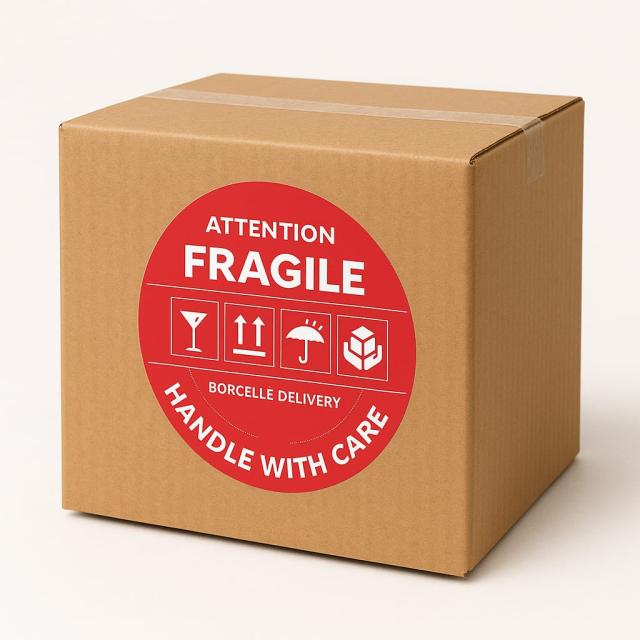fragile_label: (173, 200, 391, 306), (176, 305, 223, 361)
handle_with_care_label: (344, 318, 391, 382)
keep_dry_label: (280, 303, 341, 374)
this_side_up_label: (230, 308, 275, 370)
